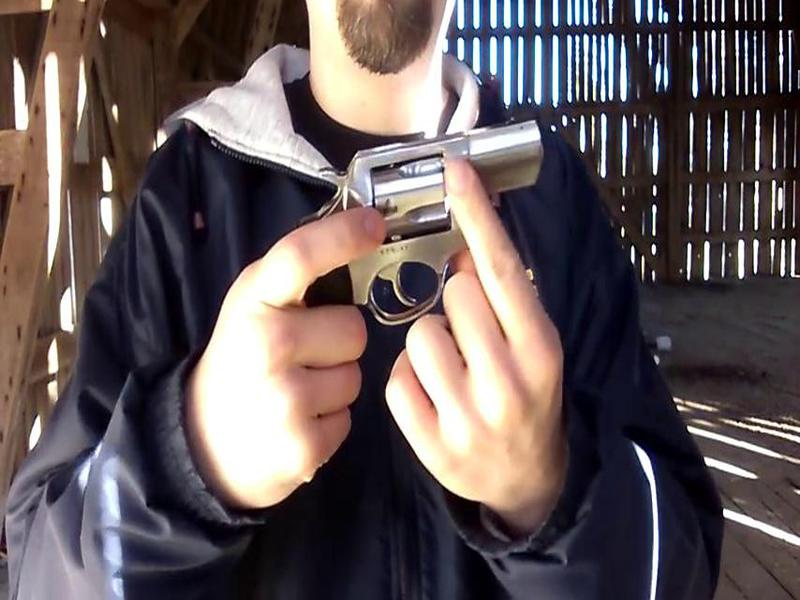Revolver: (311, 69, 602, 366)
